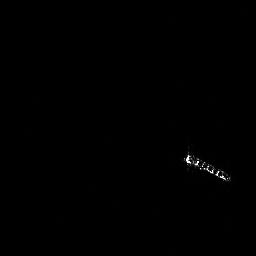ship: (180, 148, 235, 184)
